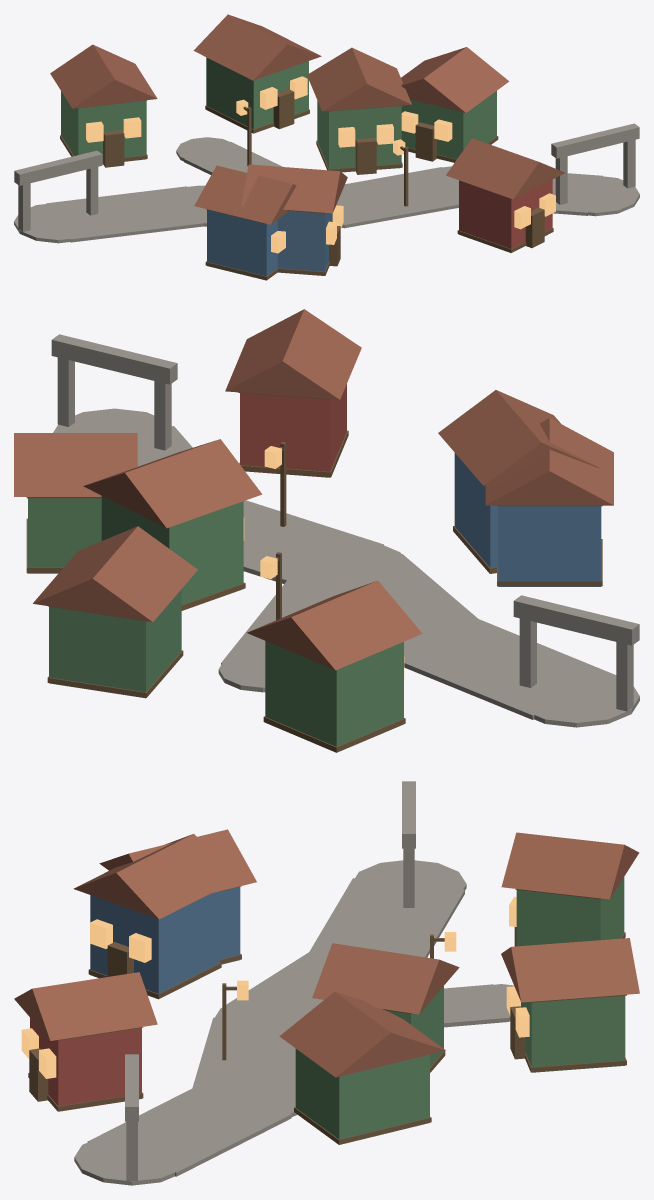
3 renders of one model, top to bottom at view 1: azimuth 30°, elevation 25°; view 2: azimuth 150°, elevation 25°; view 3: azimuth 270°, elevation 25°, orthographic. The views are drawn at different scales.
Parts seen in each view (by area): view 1: walk_seg.026, cot_roof.017, cot_roof.032, cot_roof.018, cot_roof.031, cot_roof.019, cot_body.019, cot_body.032, cot_body.016, walk_seg.028, cot_roof.016, cot_body.017 (+22 smaller); view 2: cot_body.031, cot_roof.032, cot_body.032, cot_roof.017, cot_roof.019, cot_roof.031, cot_body.016, walk_seg.026, cot_body.019, cot_roof.020, cot_roof.018, cot_body.017 (+23 smaller); view 3: cot_body.018, cot_roof.018, cot_body.020, walk_seg.026, cot_roof.032, cot_roof.020, walk_seg.029, cot_roof.031, cot_roof.017, cot_roof.019, cot_body.032, walk_seg.028 (+23 smaller).
Part boxes in pixels (box(x1,y1,x2,y2)): walk_seg.026: box(46, 186, 206, 242); cot_roof.017: box(307, 47, 411, 111); cot_roof.032: box(193, 14, 321, 80); cot_roof.018: box(401, 47, 509, 112); cot_roof.031: box(50, 44, 157, 108); cot_roof.019: box(446, 138, 565, 199); cot_body.019: box(459, 179, 552, 252); cot_body.032: box(206, 57, 308, 133); cot_body.016: box(207, 209, 277, 280); walk_seg.028: box(336, 167, 458, 228); cot_roof.016: box(194, 165, 296, 224); cot_body.017: box(317, 101, 401, 172); cot_body.031: box(265, 641, 403, 750); cot_roof.032: box(33, 526, 197, 622); cot_body.032: box(49, 589, 181, 698); cot_roof.017: box(83, 439, 262, 528); cot_roof.019: box(225, 309, 361, 399); cot_roof.031: box(247, 580, 422, 670); cot_body.016: box(498, 506, 601, 586); walk_seg.026: box(404, 615, 616, 719); cot_body.019: box(240, 384, 346, 477); cot_roof.020: box(438, 390, 598, 485); cot_roof.018: box(14, 433, 137, 496); cot_body.017: box(101, 496, 243, 610); cot_body.018: box(295, 1048, 429, 1144); cot_roof.018: box(279, 991, 445, 1077); cot_body.020: box(90, 891, 219, 999); walk_seg.026: box(307, 878, 464, 957); cot_roof.032: box(501, 938, 639, 1002); cot_roof.020: box(73, 834, 236, 919); walk_seg.029: box(87, 1089, 291, 1176); cot_roof.031: box(501, 832, 639, 899); cot_roof.017: box(312, 943, 459, 1014); cot_roof.019: box(14, 972, 157, 1040); cot_body.032: box(521, 995, 625, 1072); walk_seg.028: box(190, 1017, 295, 1100).
Bounding box in the file's own units: 33.4 × 5.87 × 27.13.
